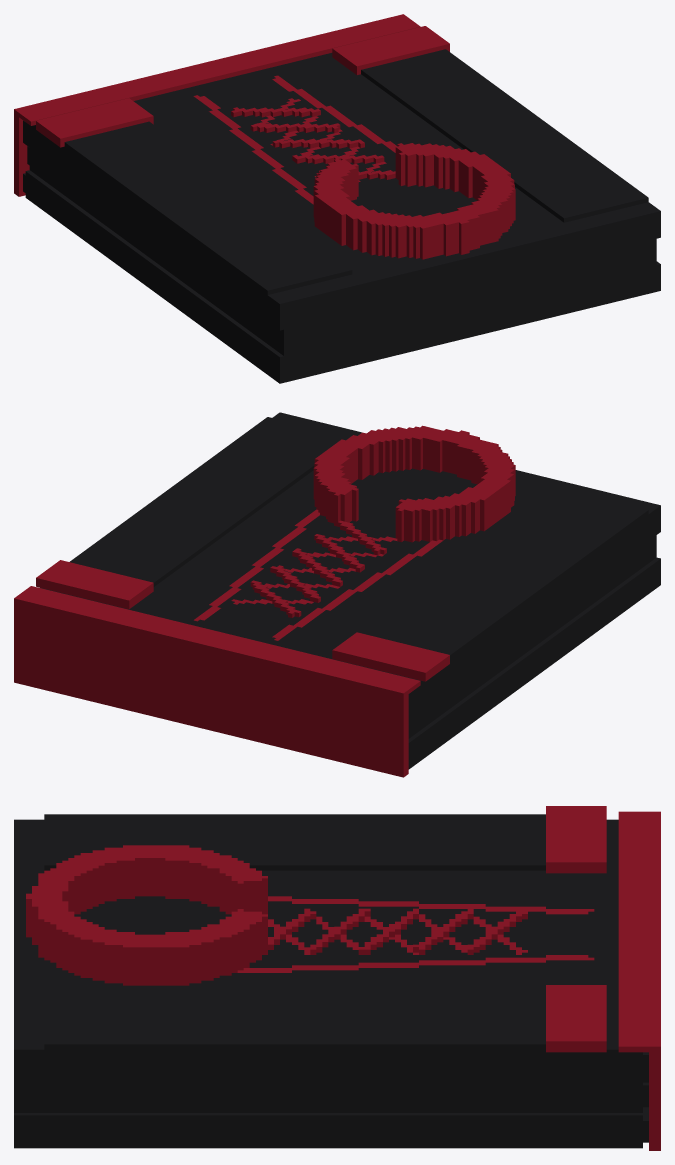
File: sinister_dress.glb
The picture shows the model from 3 angles, top to bottom: view 1: azimuth 30°, elevation 25°; view 2: azimuth 150°, elevation 25°; view 3: azimuth 270°, elevation 25°; orthographic projection. The views are drawn at different scales.
Visible parts, largest first — view 1: sinister_dress:compound; view 2: sinister_dress:compound; view 3: sinister_dress:compound.
Part boxes in pixels (x1,y1,x2,y2): sinister_dress:compound: [14, 14, 660, 383]; sinister_dress:compound: [14, 412, 660, 777]; sinister_dress:compound: [14, 806, 660, 1150].
Size of the model in its own units: 0.368 by 0.1 by 0.428.
